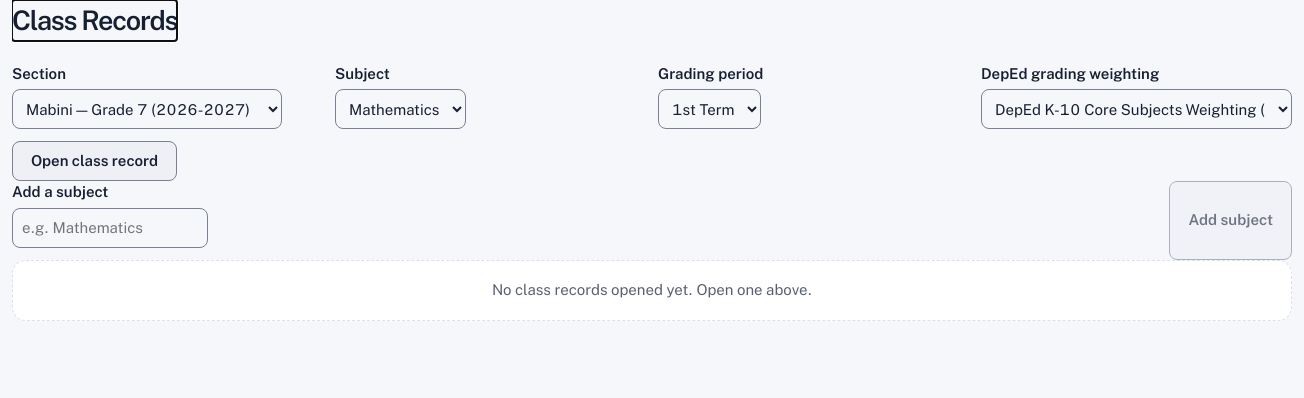
Scenario: ClassRecordsScreen › shows an error when the combination is rejected
The image size is (1304, 398).
Expected: the dropdown labelled "Section" is shown, top-left (12, 89), bottom-right (282, 129)
Expected: the dropdown labelled "Grading period" shows "1st Term", top-left (658, 89), bottom-right (761, 129)
What coordinates should you click on to do the following:
click the button "Open class record"
I would click on:
 (95, 161)
Its box is top-left (12, 141), bottom-right (177, 181).
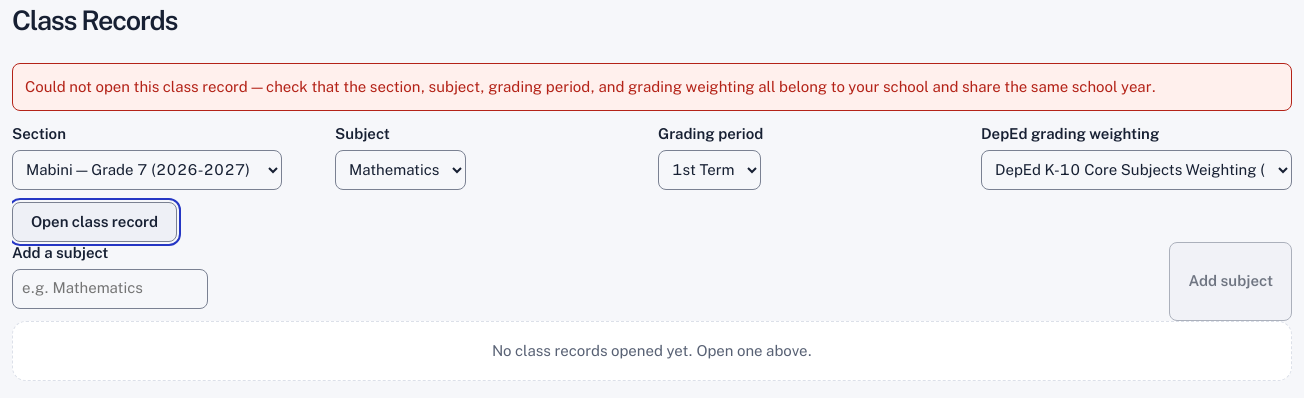
Result: the message is shown at top-left (12, 63), bottom-right (1292, 111)
